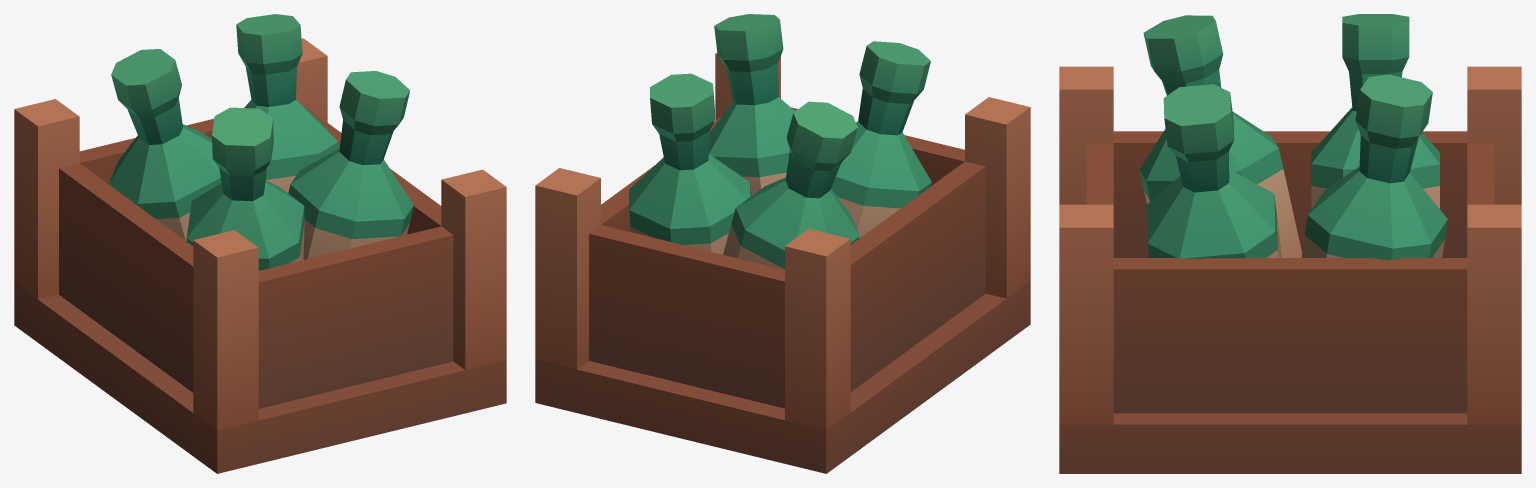
Rendered from i_crateB.glb.
3 renders of one model, left to right at view 1: azimuth 30°, elevation 25°; view 2: azimuth 150°, elevation 25°; view 3: azimuth 270°, elevation 25°, orthographic. The views are drawn at different scales.
Size of the model in its own units: 1.08 by 1.06 by 1.31.
